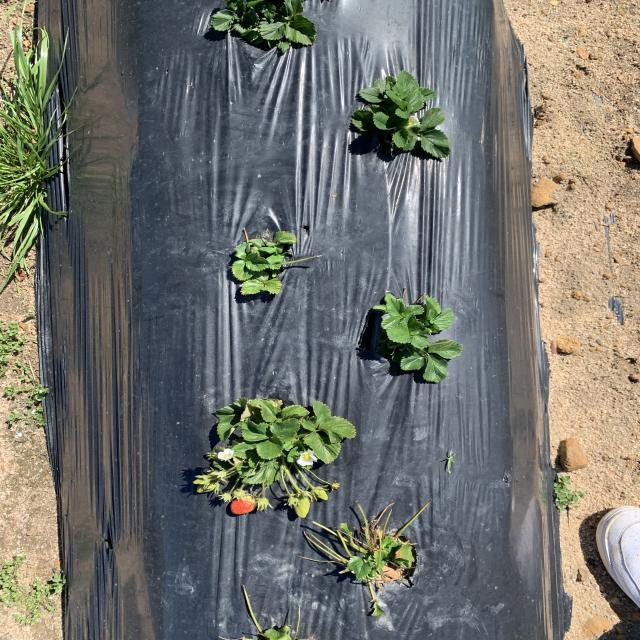unripe: (226, 496, 258, 516)
